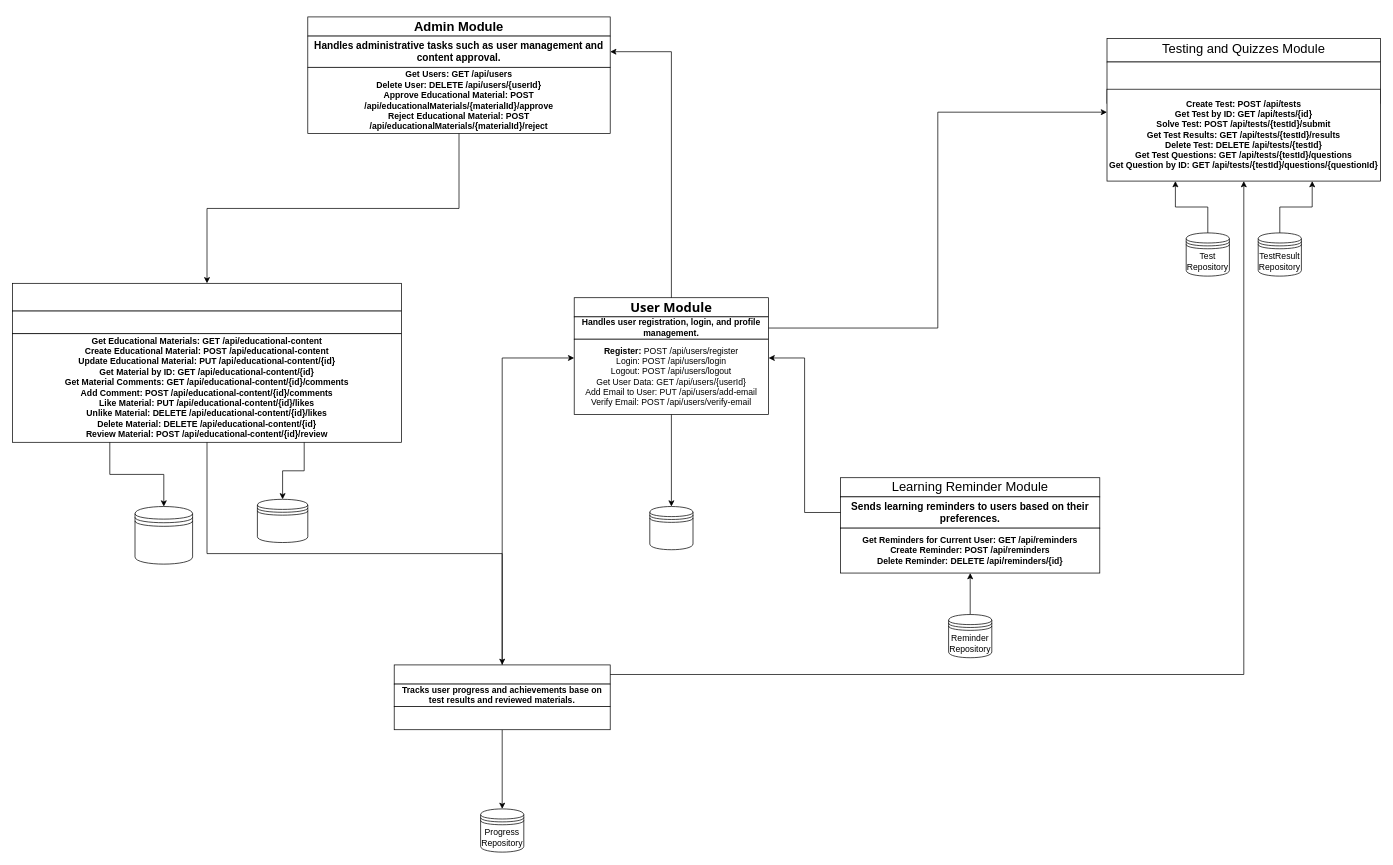
The diagram is 1393 pixels wide and 865 high, and some of its shapes have lost their labels. The centre of each missing label's shape, as x and y in pixels:
Educational Material Repository: [163,535]
Educational Materials Module: [206,297]
EduMaterial Cache: [282,521]
Get Progres: GET /api/progress: [501,718]
Manages educational materials, including creation, review, and commenting.: [206,322]
Progress and Achievements Module: [501,674]
Provides functionality for creating, taking, and reviewing tests and quizzes.: [1243,82]
User Repository: [671,528]
